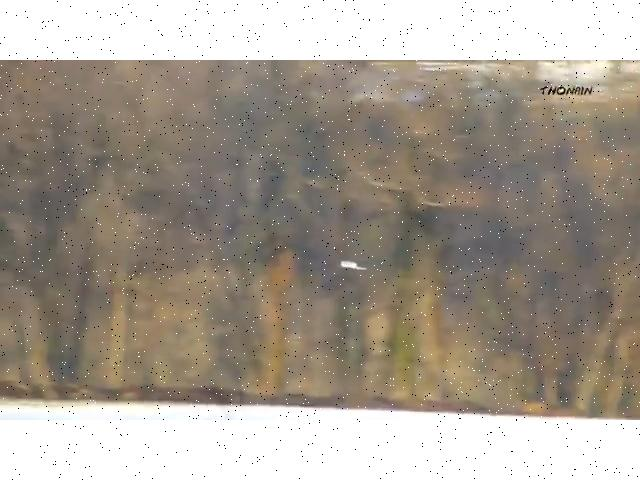Anti-Drone: (336, 248, 370, 280)
